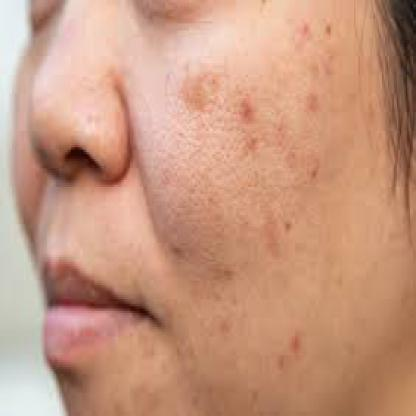darkspot: (161, 134, 317, 288), (177, 301, 248, 381), (236, 54, 288, 152), (290, 16, 338, 120), (162, 65, 223, 110), (268, 320, 312, 374)
